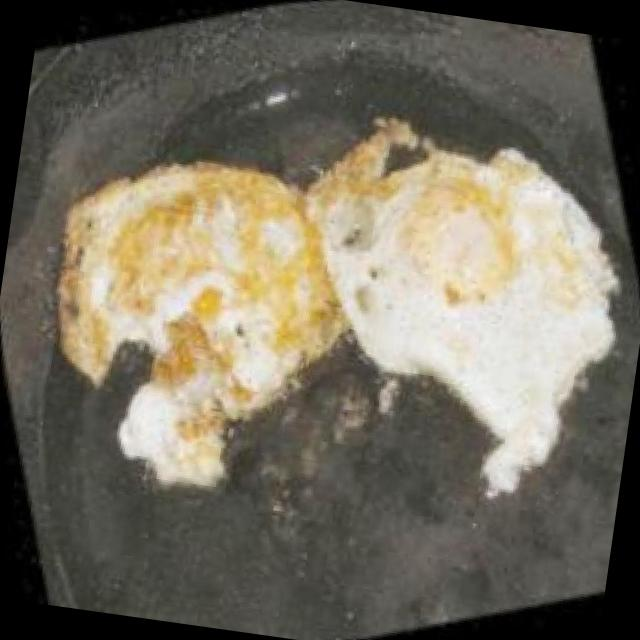fried_eggs: (0, 4, 640, 602)
